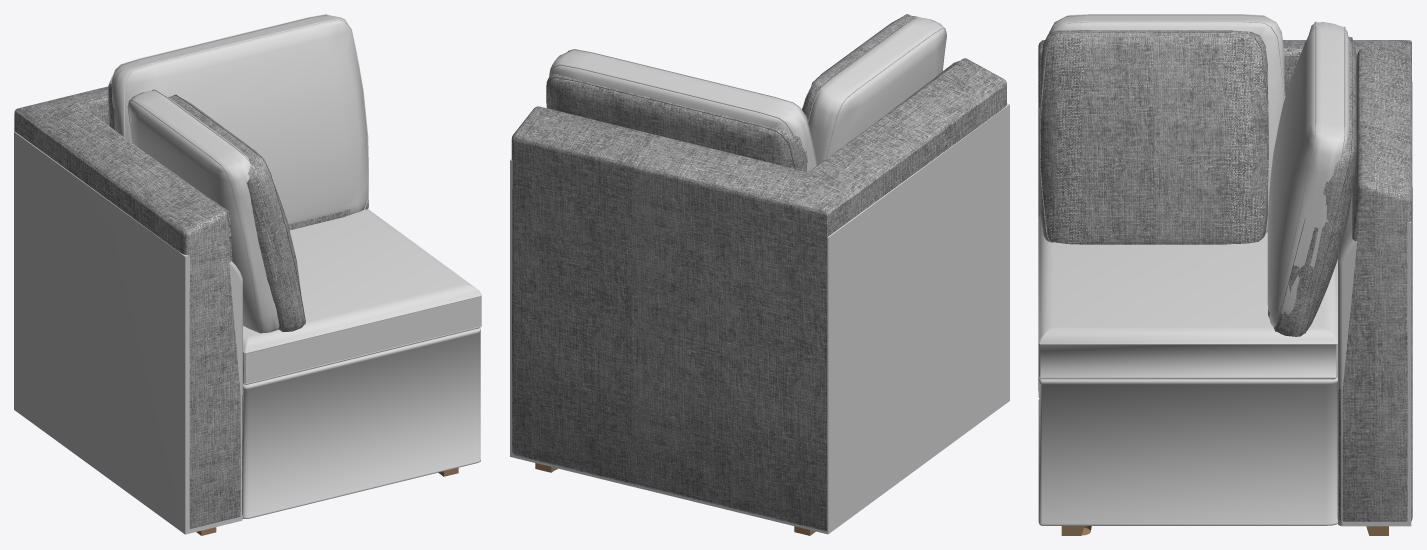
Rendered from cornerR.gltf.
The picture shows the model from 3 angles, left to right: view 1: azimuth 30°, elevation 25°; view 2: azimuth 150°, elevation 25°; view 3: azimuth 270°, elevation 25°; orthographic projection. The views are drawn at different scales.
Visible parts, largest first — view 1: back.1, pillow (×2), Bottom, Back2, SingleSeat, pillow.1 (×2), Sweep (×2); view 2: Back2, back.1, pillow.1 (×2), pillow (×2), Sweep; view 3: pillow (×2), Bottom, SingleSeat, Back2, pillow.1 (×2), back.1, Sweep (×4).
Part boxes in pixels (left/top/right/bottom): back.1: left=14, top=132, right=242, bottom=534; pillow (×2): left=111, top=14, right=368, bottom=331; Bottom: left=243, top=328, right=480, bottom=518; Back2: left=14, top=86, right=242, bottom=528; SingleSeat: left=243, top=209, right=481, bottom=384; pillow.1 (×2): left=108, top=82, right=367, bottom=333; Sweep (×2): left=110, top=14, right=368, bottom=331; Back2: left=511, top=58, right=1006, bottom=531; back.1: left=510, top=103, right=1009, bottom=534; pillow.1 (×2): left=546, top=17, right=946, bottom=171; pillow (×2): left=549, top=15, right=917, bottom=171; Sweep: left=549, top=49, right=817, bottom=165; pillow (×2): left=1040, top=22, right=1349, bottom=327; Bottom: left=1038, top=377, right=1337, bottom=525; SingleSeat: left=1038, top=215, right=1337, bottom=379; Back2: left=1038, top=40, right=1412, bottom=521; pillow.1 (×2): left=1049, top=14, right=1356, bottom=336; back.1: left=1038, top=106, right=1411, bottom=526; Sweep (×4): left=1039, top=14, right=1352, bottom=333.
Bounding box in the file's own units: 0.7649 × 0.9082 × 0.7611.
4 materials, 1 textured.
